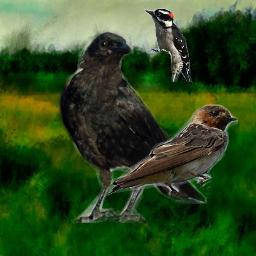Crow: (56, 30, 207, 223)
Swallow: (105, 103, 238, 200)
Woodpecker: (144, 8, 192, 82)
